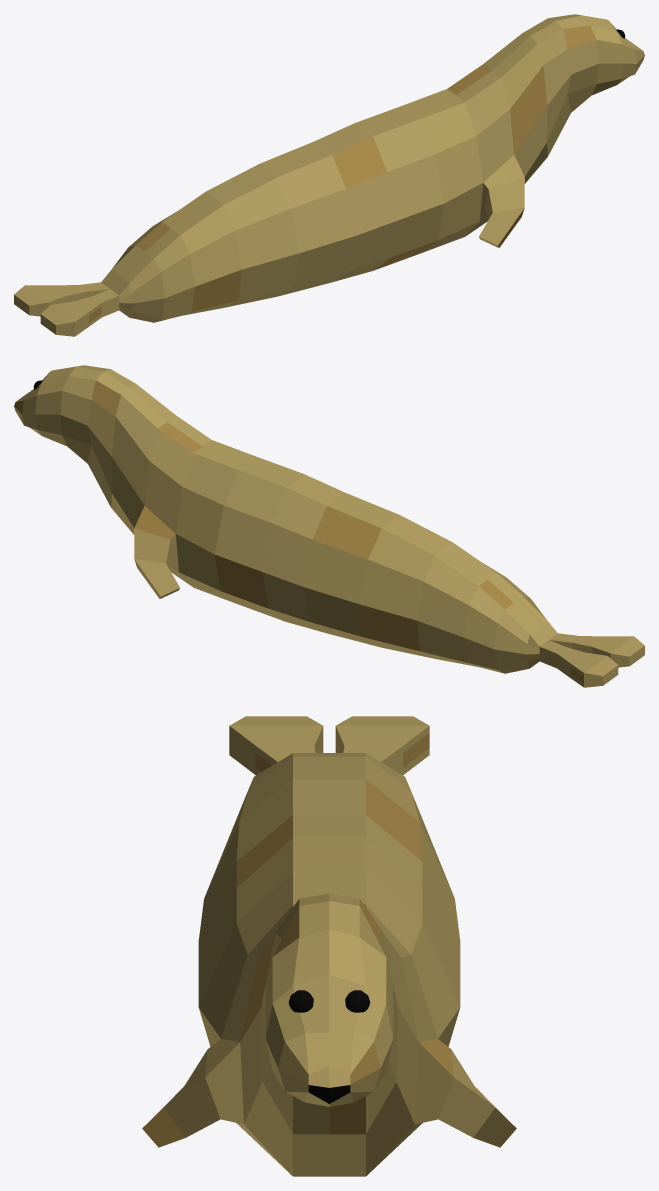
File: low-poly_seal.fbx
The picture shows the model from 3 angles, top to bottom: view 1: azimuth 30°, elevation 25°; view 2: azimuth 150°, elevation 25°; view 3: azimuth 270°, elevation 25°; orthographic projection. The views are drawn at different scales.
Parts seen in each view (by area): view 1: Plane; view 2: Plane; view 3: Plane.
Boxes of the visible parts, left/top/right/bottom form: Plane: left=14, top=14, right=644, bottom=336; Plane: left=14, top=365, right=644, bottom=687; Plane: left=142, top=716, right=516, bottom=1176.
Bounding box in the file's own units: 7.7 × 2.41 × 2.06.
